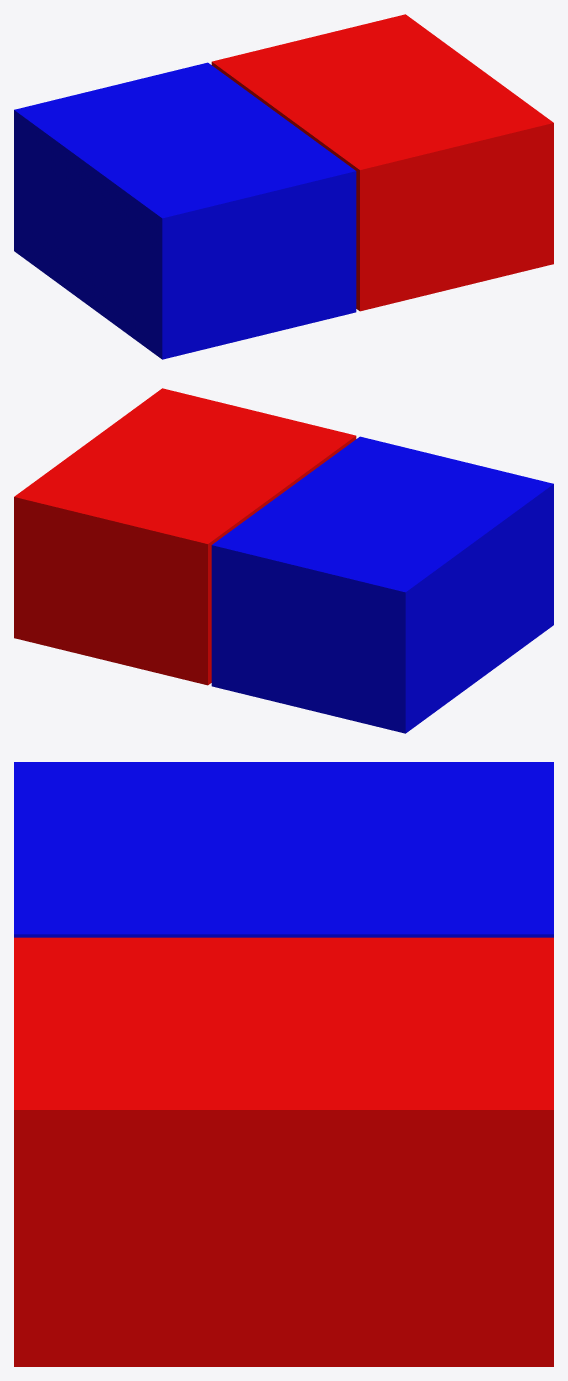
The model's file is portal01.FBX.
3 renders of one model, top to bottom at view 1: azimuth 30°, elevation 25°; view 2: azimuth 150°, elevation 25°; view 3: azimuth 270°, elevation 25°, orthographic. The views are drawn at different scales.
Parts seen in each view (by area): view 1: box_b, box_r; view 2: box_b, box_r; view 3: box_r, box_b.
Part boxes in pixels (x1,y1,x2,y2): box_b: (14,62,356,359); box_r: (211,14,553,311); box_b: (211,436,553,733); box_r: (14,388,356,685); box_r: (14,937,553,1366); box_b: (14,762,553,937).
Bounding box in the file's own units: 540 × 354 × 186.
